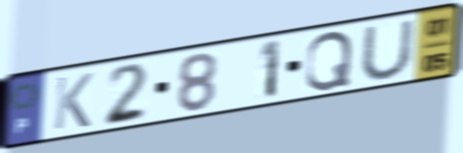1: (257, 37, 283, 104)
2: (103, 60, 153, 128)
8: (176, 50, 220, 113)
K: (51, 70, 96, 133)
Q: (303, 28, 356, 93)
U: (358, 16, 417, 82)
